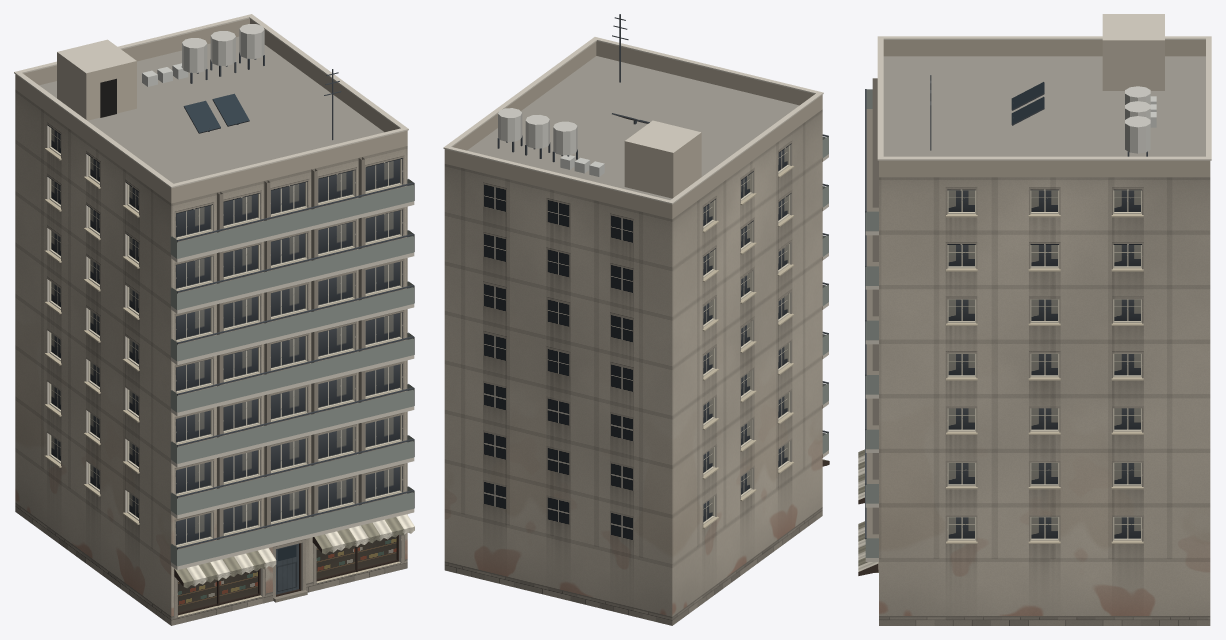
Rendered from hero_res_late_a.glb.
The picture shows the model from 3 angles, left to right: view 1: azimuth 30°, elevation 25°; view 2: azimuth 150°, elevation 25°; view 3: azimuth 270°, elevation 25°; orthographic projection. The views are drawn at different scales.
Parts seen in each view (by area): view 1: bld_hero_res_late_a; view 2: bld_hero_res_late_a; view 3: bld_hero_res_late_a.
Boxes of the visible parts, x1,y1,x2,y2 form: bld_hero_res_late_a: [14, 14, 414, 625]; bld_hero_res_late_a: [443, 14, 829, 625]; bld_hero_res_late_a: [858, 14, 1211, 625].
Bounding box in the file's own units: 14.24 × 27.93 × 17.06.
1 material, 1 textured.
